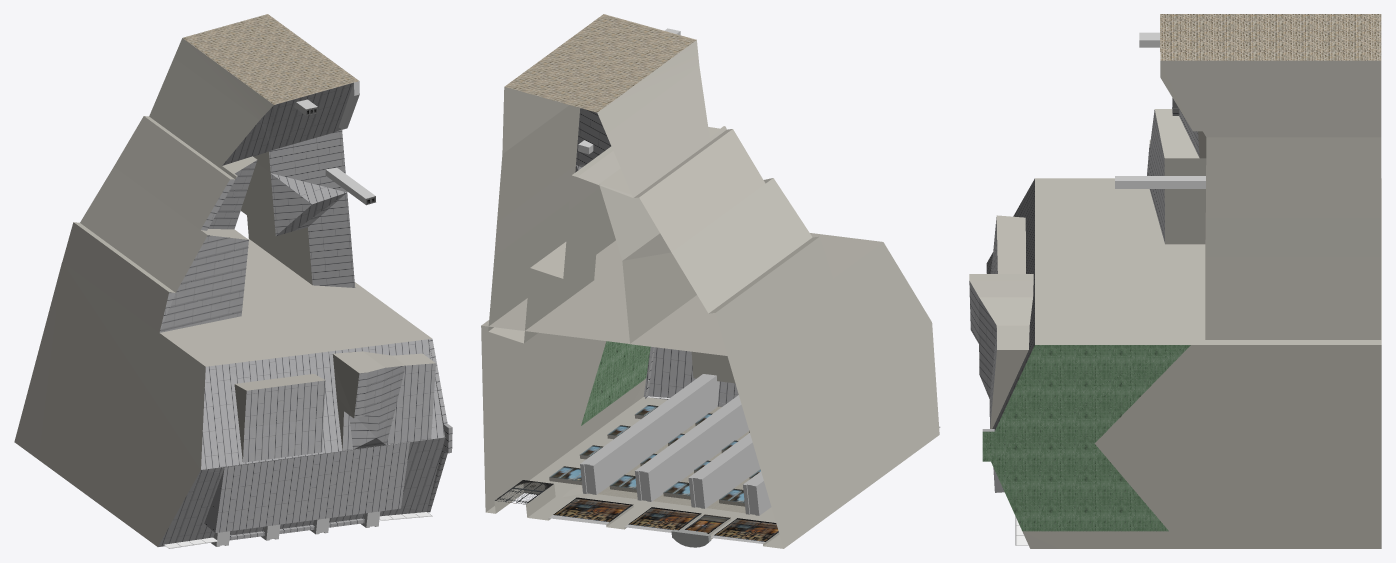
Rendered from Viru_5.obj.
3 renders of one model, left to right at view 1: azimuth 30°, elevation 25°; view 2: azimuth 150°, elevation 25°; view 3: azimuth 270°, elevation 25°, orthographic. The views are drawn at different scales.
Parts seen in each view (by area): view 1: Viru_5; view 2: Viru_5; view 3: Viru_5.
Part boxes in pixels (x1=…): Viru_5: x1=14, y1=14, x2=452, y2=548; Viru_5: x1=481, y1=14, x2=940, y2=548; Viru_5: x1=969, y1=14, x2=1381, y2=548.
Size of the model in its own units: 22 by 30.09 by 23.51.
